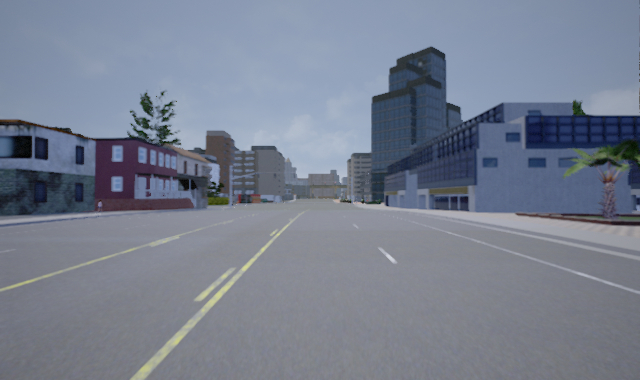pedestrian: (97, 200, 104, 212)
